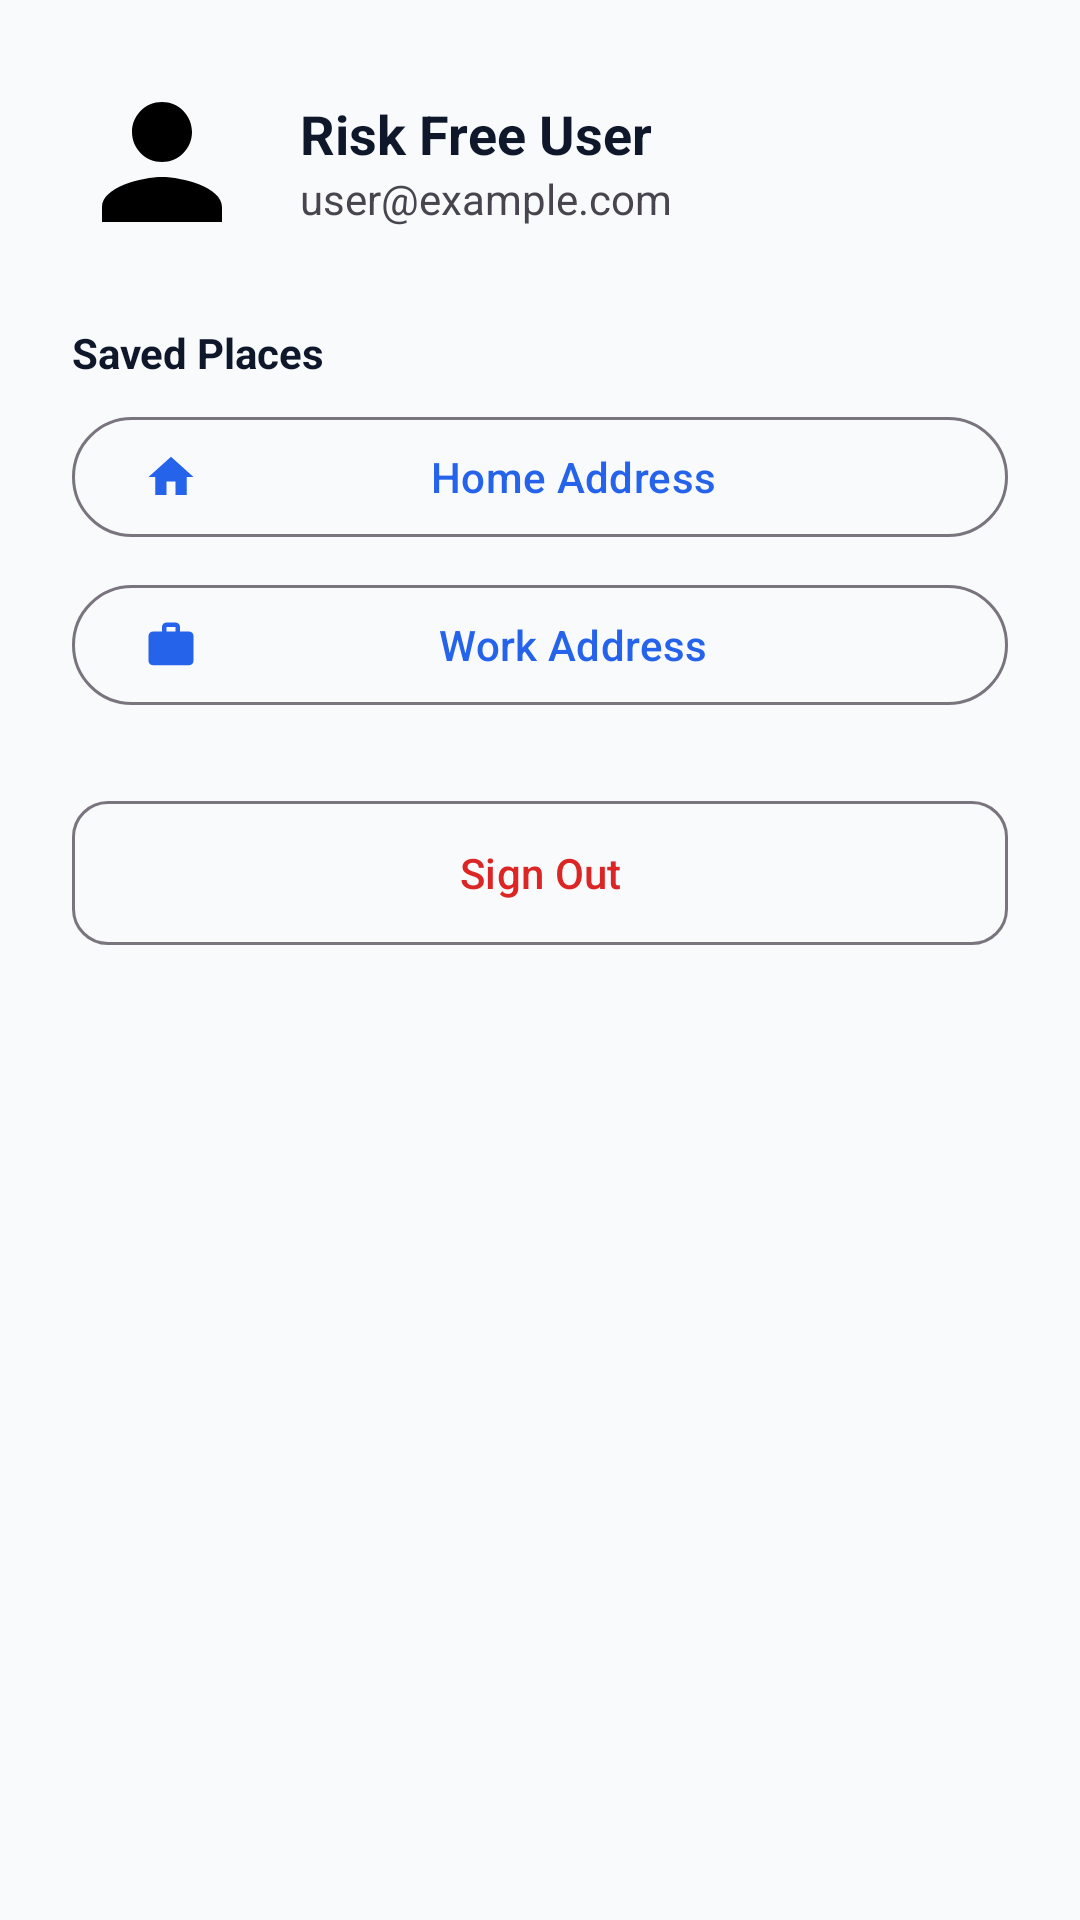

Named icons in this screenshot (1080 × 1920) and their centers, [x,y]:
profile: [162,162]
